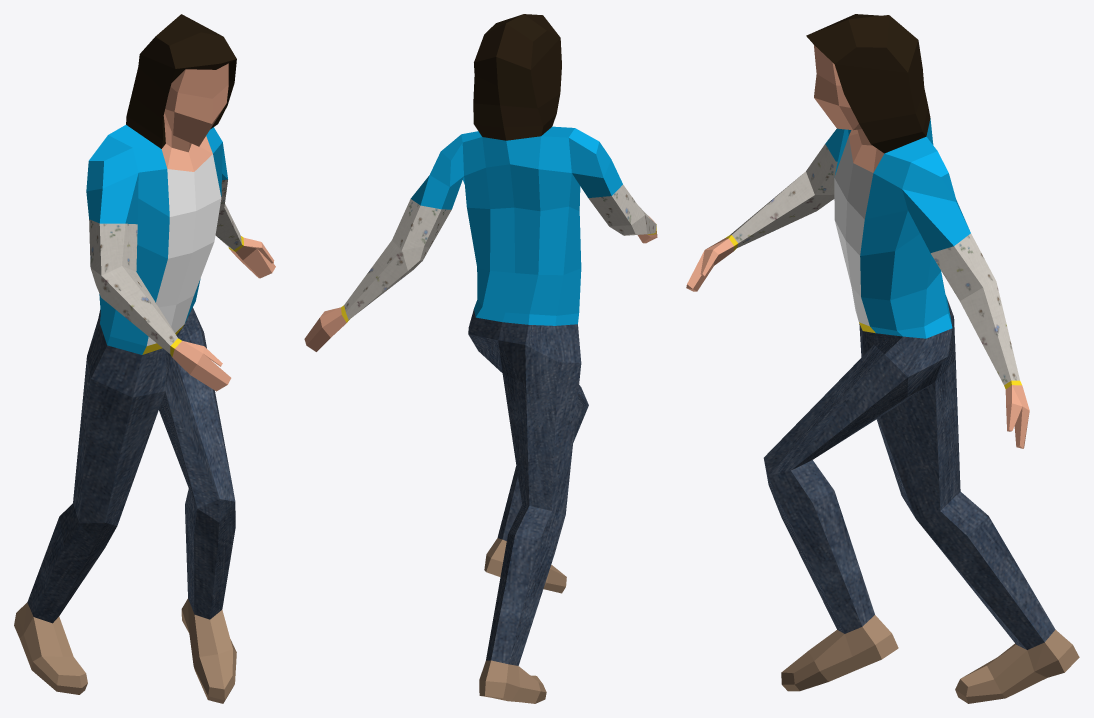
The model's file is SpringGirl.007.glb.
3 renders of one model, left to right at view 1: azimuth 30°, elevation 25°; view 2: azimuth 150°, elevation 25°; view 3: azimuth 270°, elevation 25°, orthographic. The views are drawn at different scales.
Visible parts, largest first — view 1: SpringGirl.007; view 2: SpringGirl.007; view 3: SpringGirl.007.
Part boxes in pixels (x1,y1,x2,y2): SpringGirl.007: (14, 14, 275, 703); SpringGirl.007: (304, 14, 657, 703); SpringGirl.007: (686, 14, 1079, 703).
Size of the model in its own units: 0.4967 by 1.19 by 0.5919.
1 material, 1 textured.
